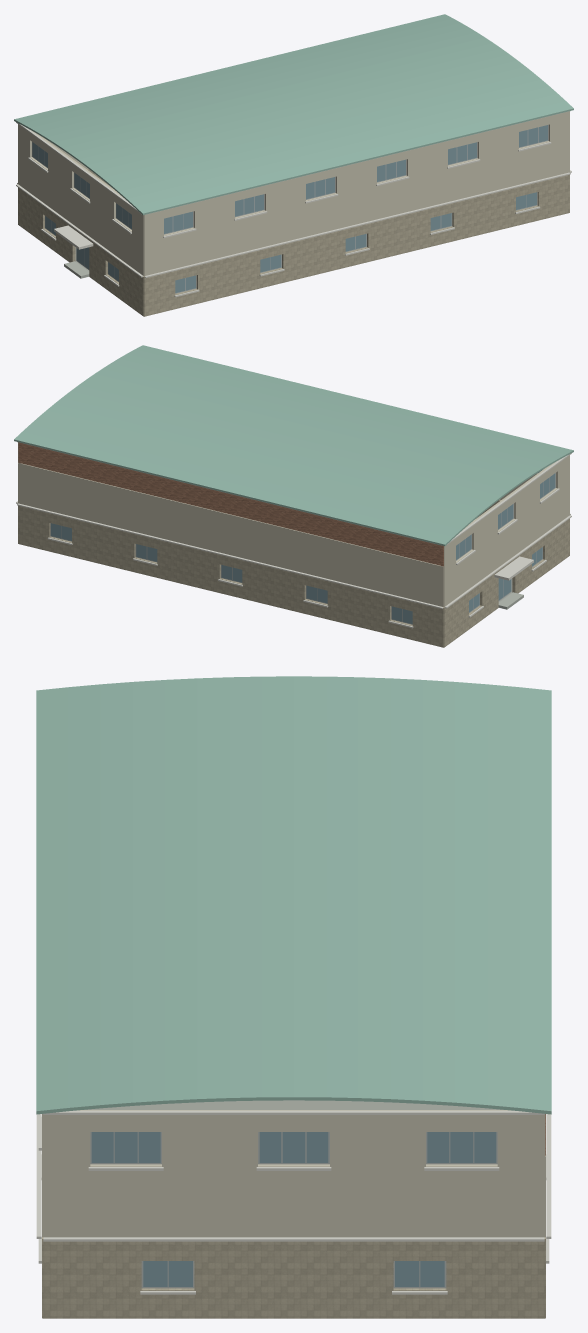
3 renders of one model, top to bottom at view 1: azimuth 30°, elevation 25°; view 2: azimuth 150°, elevation 25°; view 3: azimuth 270°, elevation 25°, orthographic. The views are drawn at different scales.
Parts seen in each view (by area): view 1: hall__roof, hall__wall, hall__stone, hall__glass, hall__trim, hall__frame; view 2: hall__roof, hall__wall, hall__stone, hall__brick, hall__trim, hall__glass, hall__frame; view 3: hall__roof, hall__wall, hall__stone, hall__glass, hall__trim, hall__slab, hall__frame.
Boxes of the visible parts, left/top/right/bottom form: hall__roof: left=14, top=14, right=573, bottom=214; hall__wall: left=18, top=111, right=569, bottom=275; hall__stone: left=18, top=168, right=569, bottom=316; hall__glass: left=32, top=125, right=547, bottom=292; hall__trim: left=16, top=111, right=571, bottom=297; hall__frame: left=32, top=125, right=548, bottom=293; hall__roof: left=14, top=345, right=573, bottom=545; hall__wall: left=18, top=442, right=569, bottom=606; hall__stone: left=18, top=499, right=569, bottom=647; hall__brick: left=18, top=442, right=443, bottom=566; hall__trim: left=16, top=442, right=571, bottom=628; hall__glass: left=51, top=470, right=555, bottom=623; hall__frame: left=50, top=473, right=555, bottom=624; hall__roof: left=36, top=676, right=551, bottom=1114; hall__wall: left=42, top=1110, right=545, bottom=1237; hall__stone: left=42, top=1237, right=545, bottom=1318; hall__glass: left=91, top=1132, right=496, bottom=1286; hall__trim: left=36, top=1110, right=551, bottom=1294; hall__slab: left=84, top=1100, right=503, bottom=1109; hall__frame: left=90, top=1132, right=497, bottom=1288.
Bounding box in the file's own units: 42.71 × 10.33 × 21.51.
9 materials, 2 textured.
